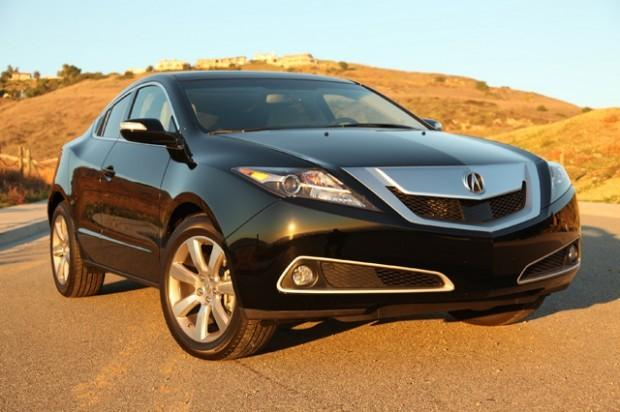Hatchback: (46, 68, 582, 361)
